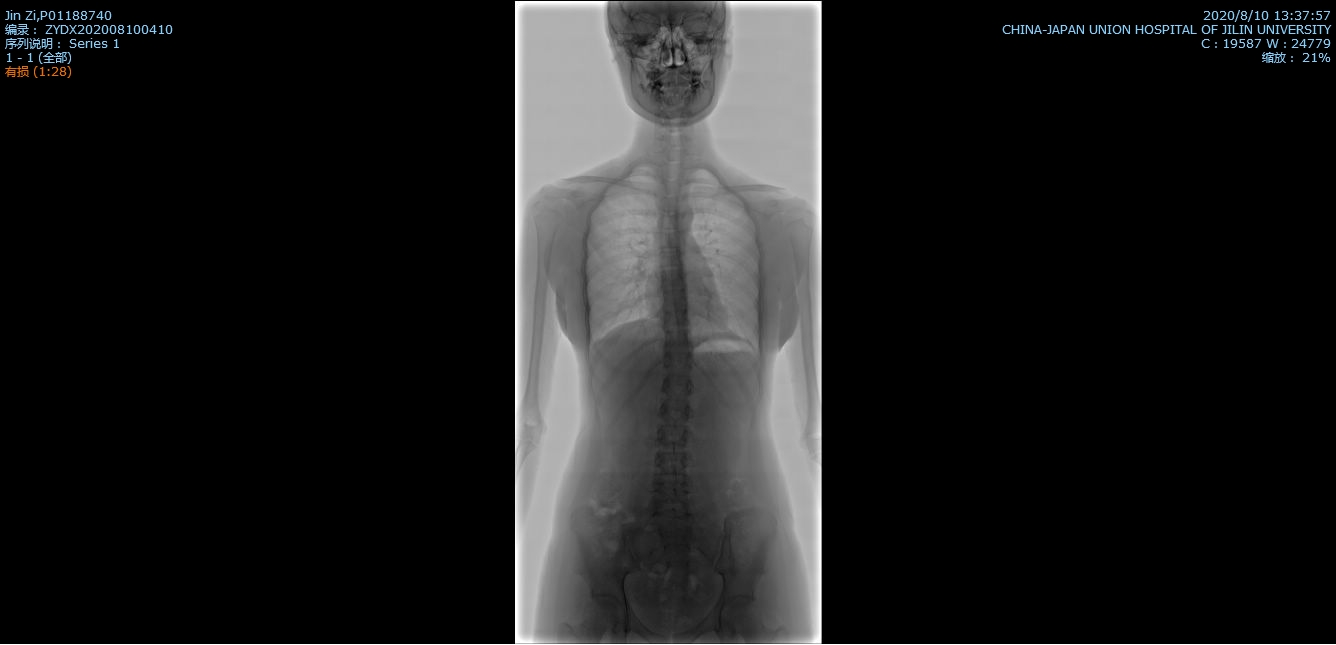Bone: (654, 498, 689, 518), (663, 375, 693, 396), (658, 425, 689, 445), (656, 452, 689, 470), (661, 400, 691, 419), (655, 477, 688, 493), (664, 352, 693, 368), (664, 330, 689, 348), (661, 270, 685, 288), (658, 213, 682, 229), (658, 251, 682, 266), (664, 313, 689, 327), (663, 295, 688, 309), (660, 232, 681, 247)
